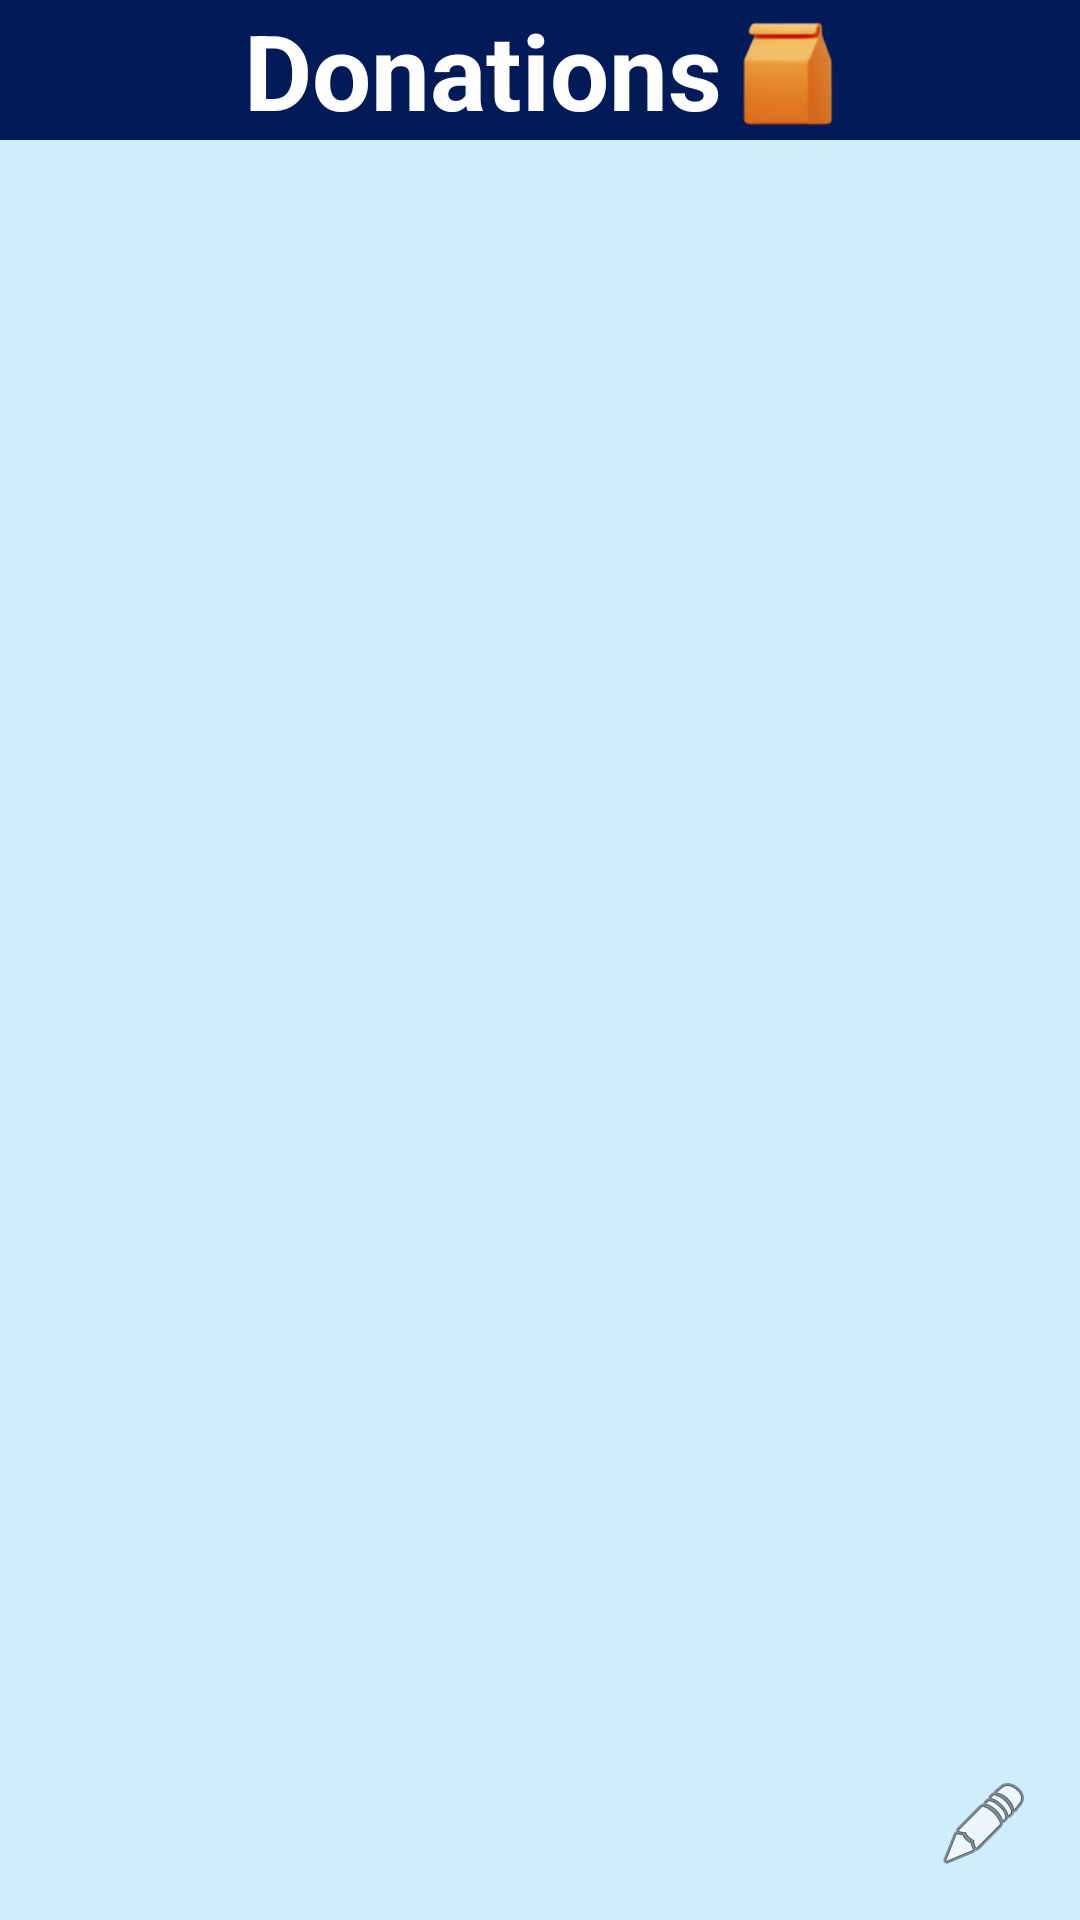

Locate icon controls on the screen. Image size 1080 x 1920, boxes as (x1, y1, x2, y2).
edit: (943, 1783, 1024, 1864)
fooditem: (743, 23, 833, 125)
